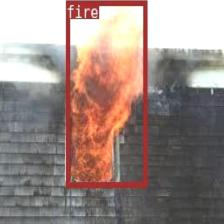fire: (65, 0, 146, 186)
